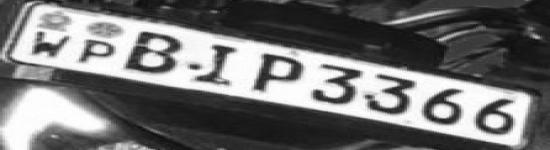3: (312, 61, 366, 106), (368, 72, 420, 117)
6: (419, 84, 470, 126), (471, 95, 522, 136)
B: (118, 30, 189, 75)
I: (189, 42, 242, 87)
P: (249, 52, 305, 94), (76, 36, 116, 66)
W: (26, 31, 73, 59)
